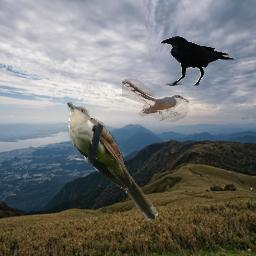Crow: (160, 36, 236, 87)
Cuckoo: (67, 102, 158, 221), (122, 79, 189, 122)
